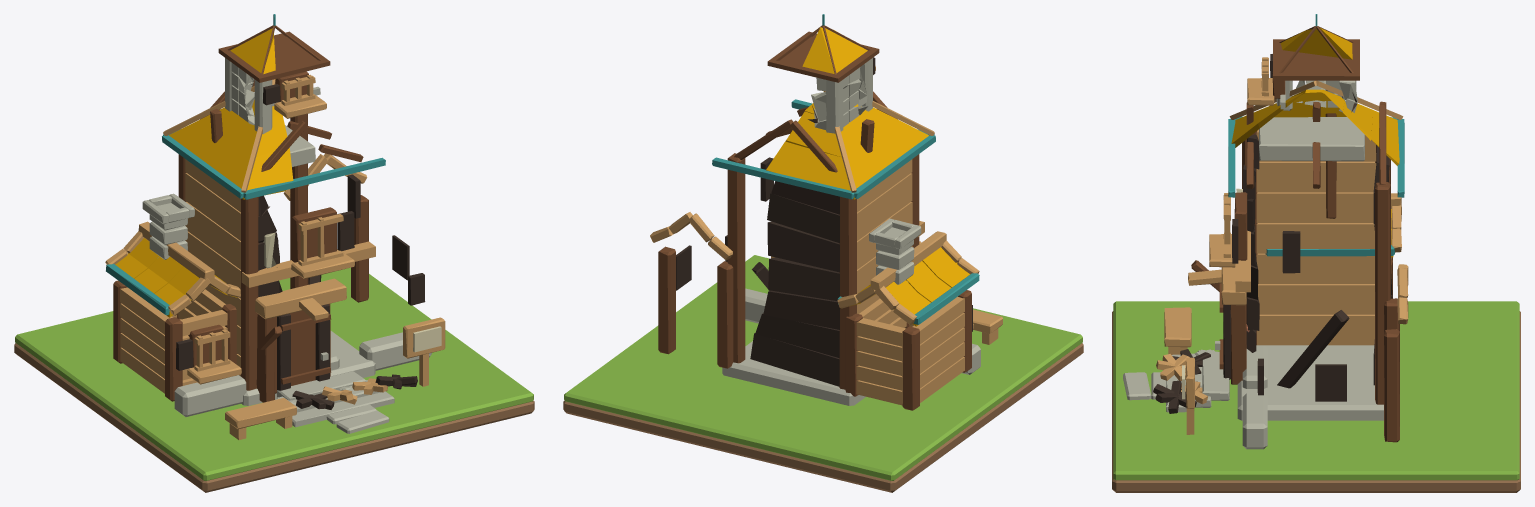
The model's file is town_hall_l06_damaged_LOD1.glb.
3 renders of one model, left to right at view 1: azimuth 30°, elevation 25°; view 2: azimuth 150°, elevation 25°; view 3: azimuth 270°, elevation 25°, orthographic. The views are drawn at different scales.
Visible parts, largest first — view 1: town_hall_l06_damaged_foundation.001, town_hall_l06_damaged_grass_tile.001, town_hall_l06_damaged_earth_tile.001, town_hall_l06_damaged_path_stone.005; view 2: town_hall_l06_damaged_foundation.001, town_hall_l06_damaged_grass_tile.001, town_hall_l06_damaged_earth_tile.001; view 3: town_hall_l06_damaged_foundation.001, town_hall_l06_damaged_grass_tile.001, town_hall_l06_damaged_earth_tile.001, town_hall_l06_damaged_path_stone.005.
Part boxes in pixels (<box>): town_hall_l06_damaged_foundation.001: <box>105,14,445,439</box>; town_hall_l06_damaged_grass_tile.001: <box>15,267,533,480</box>; town_hall_l06_damaged_earth_tile.001: <box>14,343,534,492</box>; town_hall_l06_damaged_path_stone.005: <box>336,410,389,433</box>; town_hall_l06_damaged_foundation.001: <box>650,14,1002,410</box>; town_hall_l06_damaged_grass_tile.001: <box>564,255,1082,480</box>; town_hall_l06_damaged_earth_tile.001: <box>563,343,1083,492</box>; town_hall_l06_damaged_foundation.001: <box>1153,14,1408,449</box>; town_hall_l06_damaged_grass_tile.001: <box>1113,301,1519,480</box>; town_hall_l06_damaged_earth_tile.001: <box>1112,311,1520,492</box>; town_hall_l06_damaged_path_stone.005: <box>1123,372,1151,400</box>.
Bounding box in the file's own units: 3.6 × 3.83 × 3.6.
